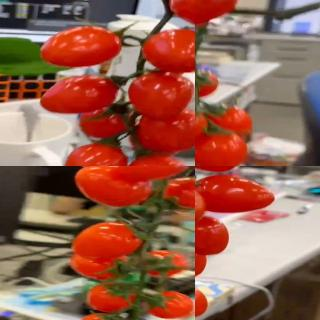tomato: (39, 24, 123, 68), (195, 176, 278, 216), (75, 166, 154, 208), (128, 72, 194, 120), (134, 107, 195, 156), (44, 76, 120, 115), (70, 222, 146, 260), (142, 28, 195, 74), (78, 102, 141, 140), (197, 103, 255, 144), (195, 131, 248, 166), (69, 250, 126, 282), (87, 281, 139, 314), (61, 141, 127, 166), (195, 214, 230, 257), (144, 290, 195, 319), (142, 251, 194, 279), (195, 0, 244, 28), (156, 175, 195, 209), (115, 166, 194, 181), (126, 153, 191, 166), (166, 0, 195, 29), (195, 69, 219, 104), (195, 285, 209, 319), (74, 313, 128, 320)
